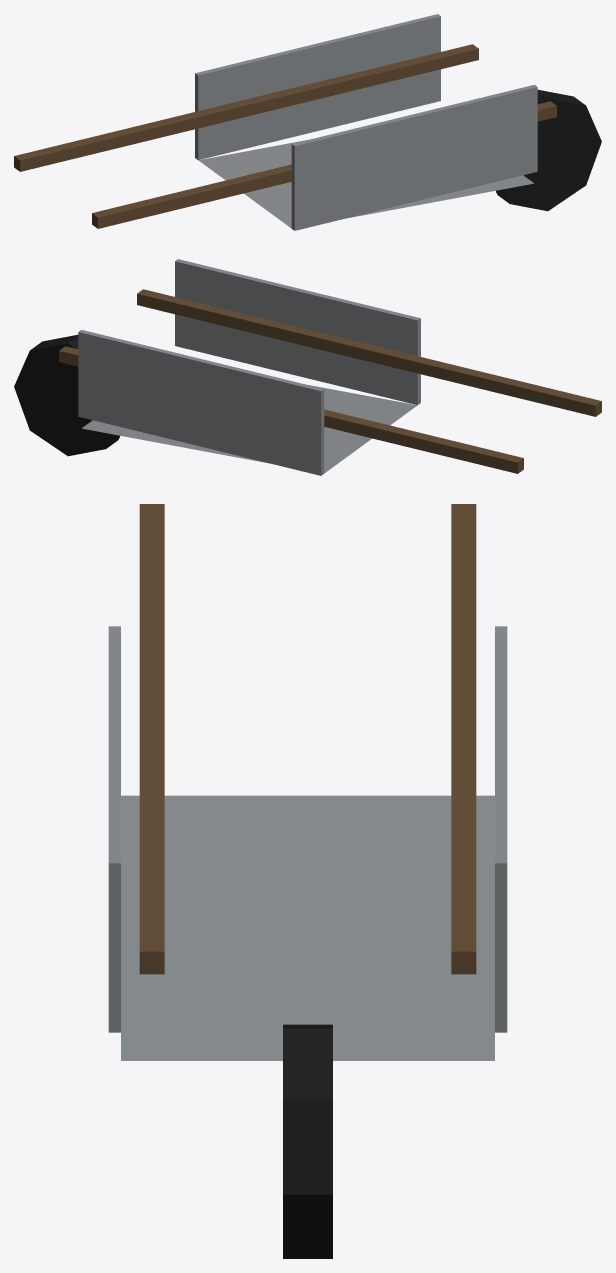
Rendered from carrinho_mao.glb.
3 views of the same model, one above another, from view 1: azimuth 30°, elevation 25°; view 2: azimuth 150°, elevation 25°; view 3: azimuth 270°, elevation 25° (orthographic). The views are drawn at different scales.
Visible parts, largest first — view 1: carrinho_mao; view 2: carrinho_mao; view 3: carrinho_mao.
Boxes of the visible parts, x1,y1,x2,y2 form: carrinho_mao: (14,14,601,230); carrinho_mao: (14,259,601,475); carrinho_mao: (108,504,507,1258).
Size of the model in its own units: 2 by 0.6 by 0.64.
